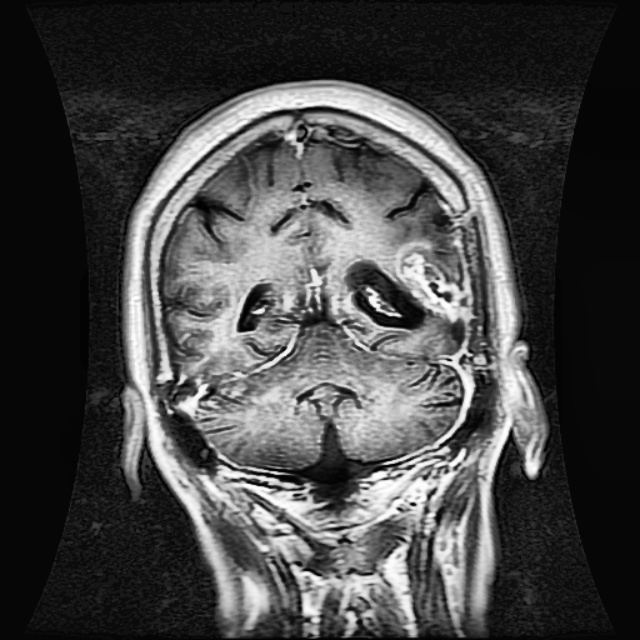Meningioma: (344, 239, 472, 339)
